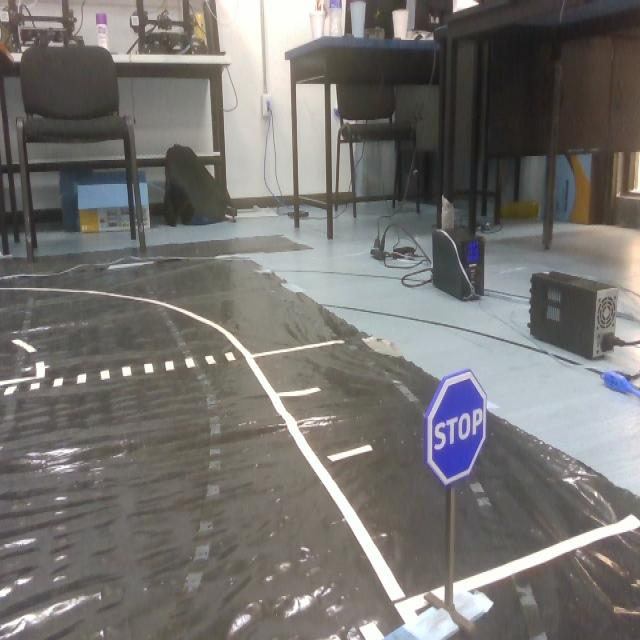no_entry: (423, 376, 501, 492)
